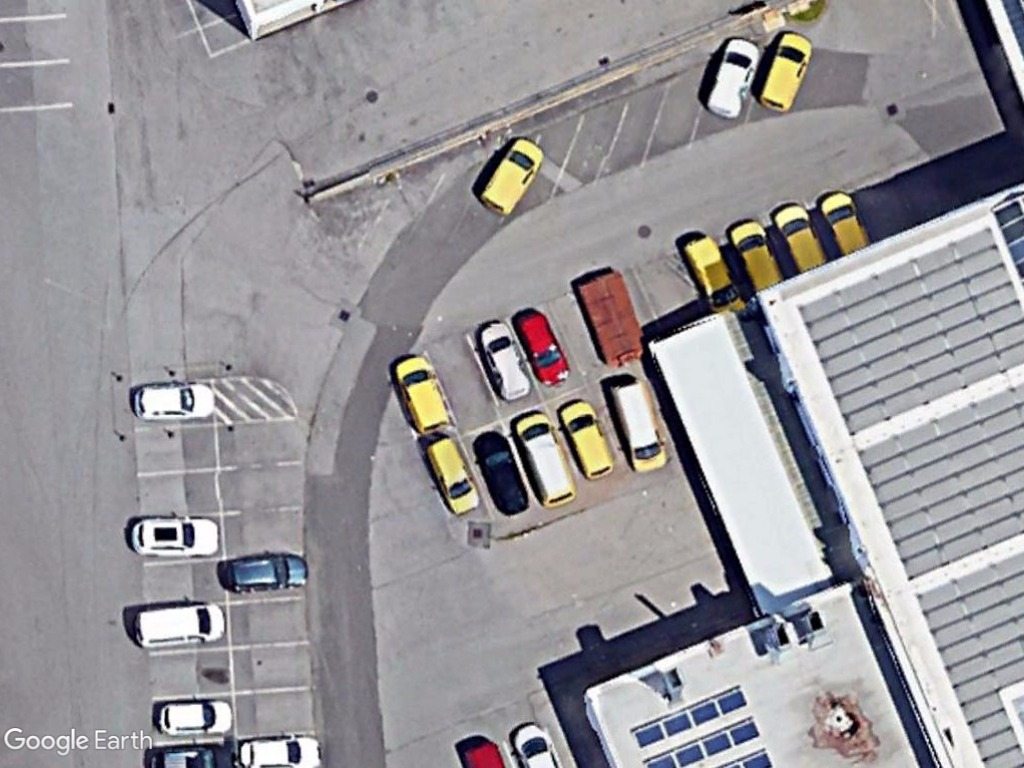car: (468, 423, 531, 516), (474, 316, 536, 404), (121, 512, 224, 563), (515, 306, 575, 391), (222, 544, 314, 595), (131, 378, 220, 426), (148, 694, 236, 741), (232, 732, 325, 768)
van: (509, 407, 582, 511), (671, 227, 747, 324), (607, 373, 671, 475), (385, 347, 452, 443), (479, 132, 547, 220), (702, 29, 765, 122), (127, 597, 228, 652), (755, 27, 816, 115), (420, 433, 482, 518), (556, 394, 616, 480)
